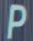Parking: (4, 1, 26, 40)
